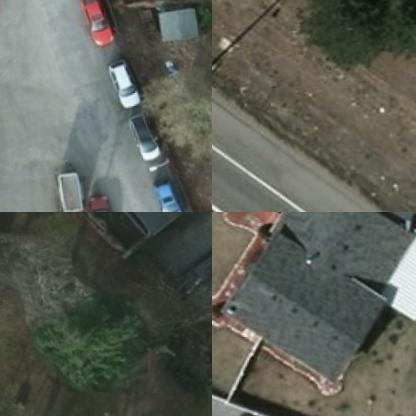car: (161, 258, 211, 301), (81, 0, 120, 54), (126, 117, 160, 171), (101, 66, 140, 112), (148, 180, 183, 211), (81, 200, 111, 211)
